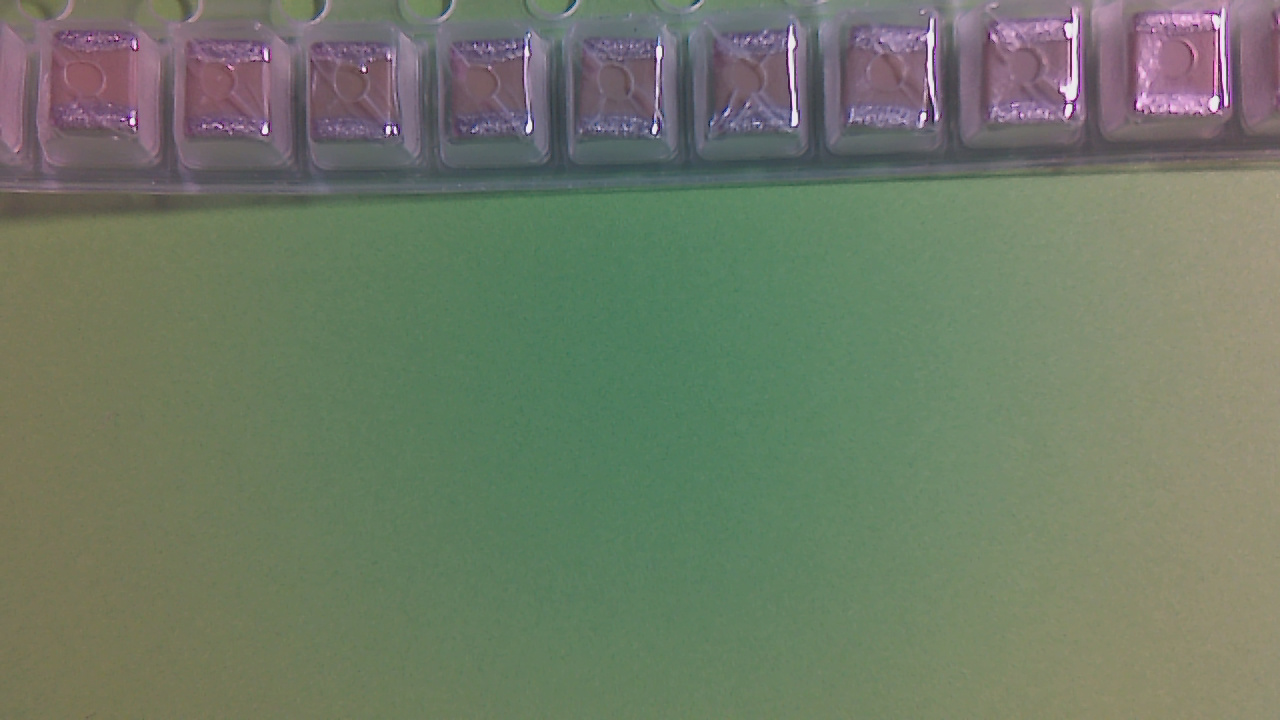Condensator: (52, 32, 152, 139), (311, 40, 405, 152), (719, 30, 809, 144), (577, 39, 669, 149), (453, 38, 542, 149), (190, 42, 282, 147), (990, 20, 1077, 128), (852, 27, 939, 135), (1137, 14, 1221, 120)
